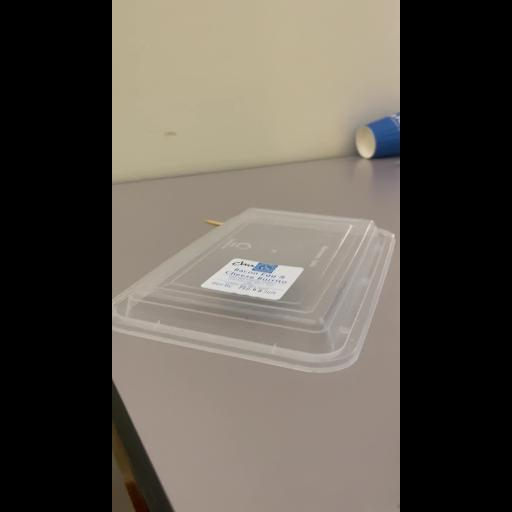lp_paper_cup: (354, 111, 400, 161)
rigid_plastic_lid: (113, 209, 395, 369)
